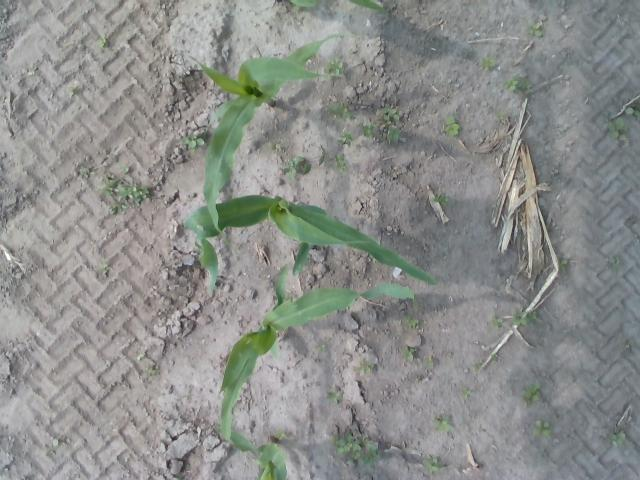Maize: (190, 35, 348, 246), (182, 194, 448, 296), (220, 264, 417, 396), (222, 347, 288, 480), (275, 0, 388, 15)
Weeds: (100, 177, 150, 212), (280, 156, 308, 182), (336, 434, 362, 454), (324, 57, 346, 75), (328, 103, 350, 121), (522, 382, 541, 402), (608, 116, 623, 138), (182, 133, 204, 147), (386, 126, 402, 144), (383, 107, 399, 124), (326, 385, 341, 403), (354, 360, 373, 374), (363, 449, 380, 464), (446, 117, 459, 136), (424, 456, 440, 471), (535, 420, 550, 436), (512, 309, 526, 326), (334, 154, 347, 172), (528, 22, 542, 38), (403, 346, 416, 362), (435, 418, 452, 430), (404, 316, 421, 328), (611, 431, 626, 444), (479, 55, 492, 70), (506, 78, 519, 92), (625, 104, 638, 117), (339, 132, 352, 145), (434, 192, 448, 204), (423, 356, 435, 370), (489, 316, 502, 328), (319, 145, 326, 164), (362, 126, 374, 137), (101, 263, 110, 277), (460, 387, 470, 397), (81, 168, 91, 178), (268, 142, 282, 148), (68, 86, 76, 96), (277, 432, 287, 440), (98, 39, 106, 47), (146, 366, 154, 374), (476, 362, 482, 372), (314, 343, 326, 348), (491, 352, 498, 360), (496, 112, 503, 120), (528, 313, 536, 320), (561, 260, 566, 271), (136, 354, 144, 360), (609, 256, 614, 264), (125, 167, 130, 174), (416, 377, 421, 382)
